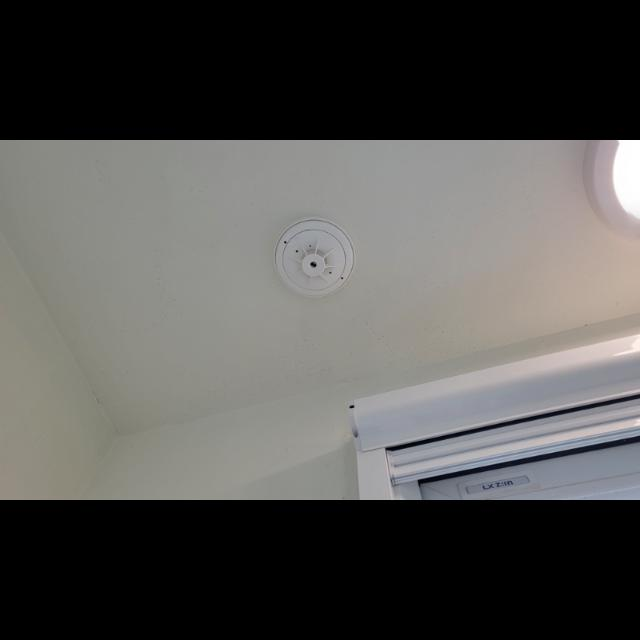Smoke-Detector: (275, 220, 355, 296)
